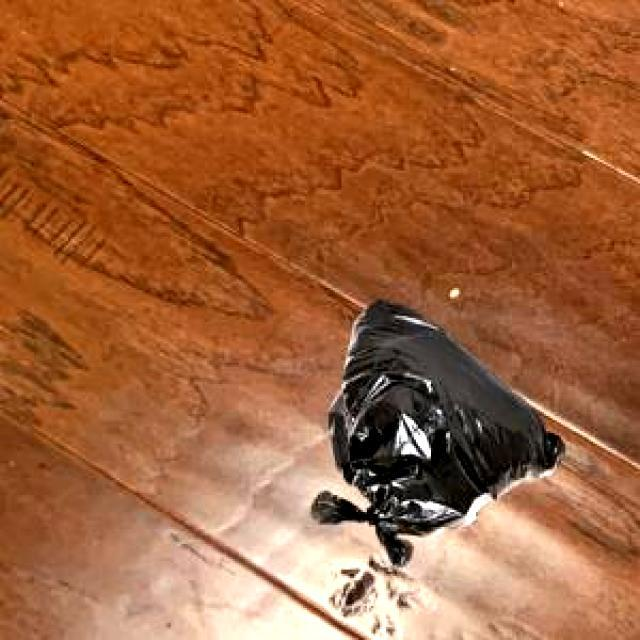Garbage_Bag: (308, 298, 562, 566)
